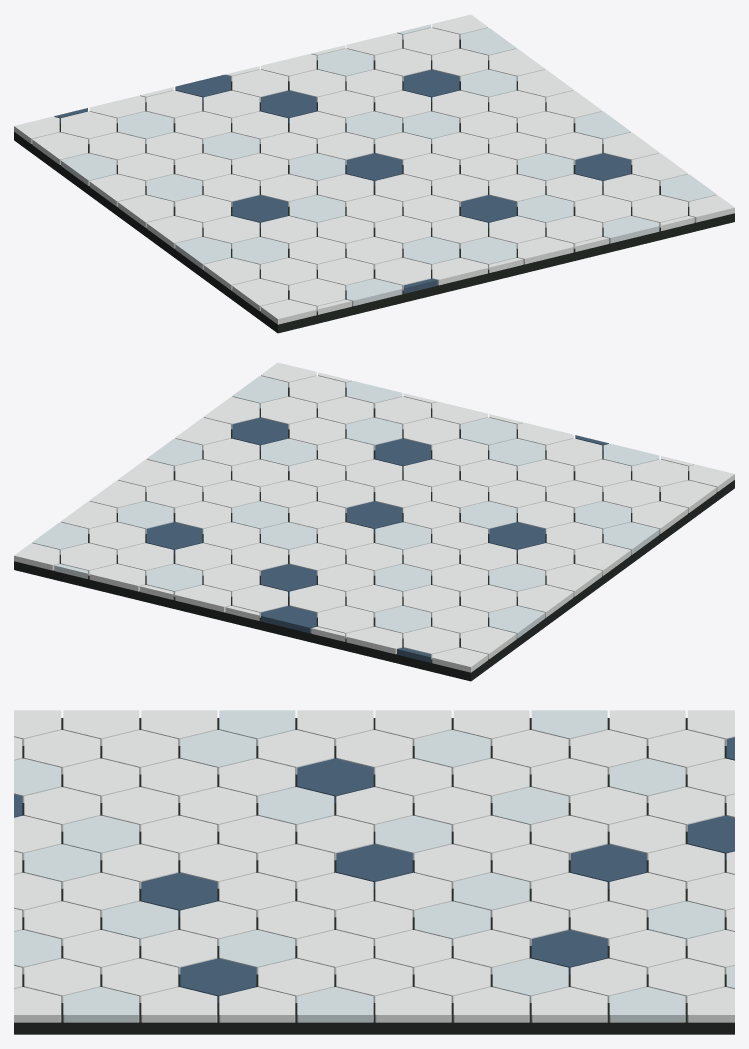
Rendered from gh_floor_hex_v01.glb.
The picture shows the model from 3 angles, top to bottom: view 1: azimuth 30°, elevation 25°; view 2: azimuth 150°, elevation 25°; view 3: azimuth 270°, elevation 25°; orthographic projection. The views are drawn at different scales.
Parts seen in each view (by area): view 1: Laid cafe hexagon tiles; view 2: Laid cafe hexagon tiles; view 3: Laid cafe hexagon tiles.
Boxes of the visible parts, x1=… form: Laid cafe hexagon tiles: x1=14, y1=14, x2=734, y2=333; Laid cafe hexagon tiles: x1=14, y1=362, x2=734, y2=681; Laid cafe hexagon tiles: x1=14, y1=710, x2=734, y2=1034.
Bounding box in the file's own units: 6 × 0.18 × 6.
1 material, 1 textured.
